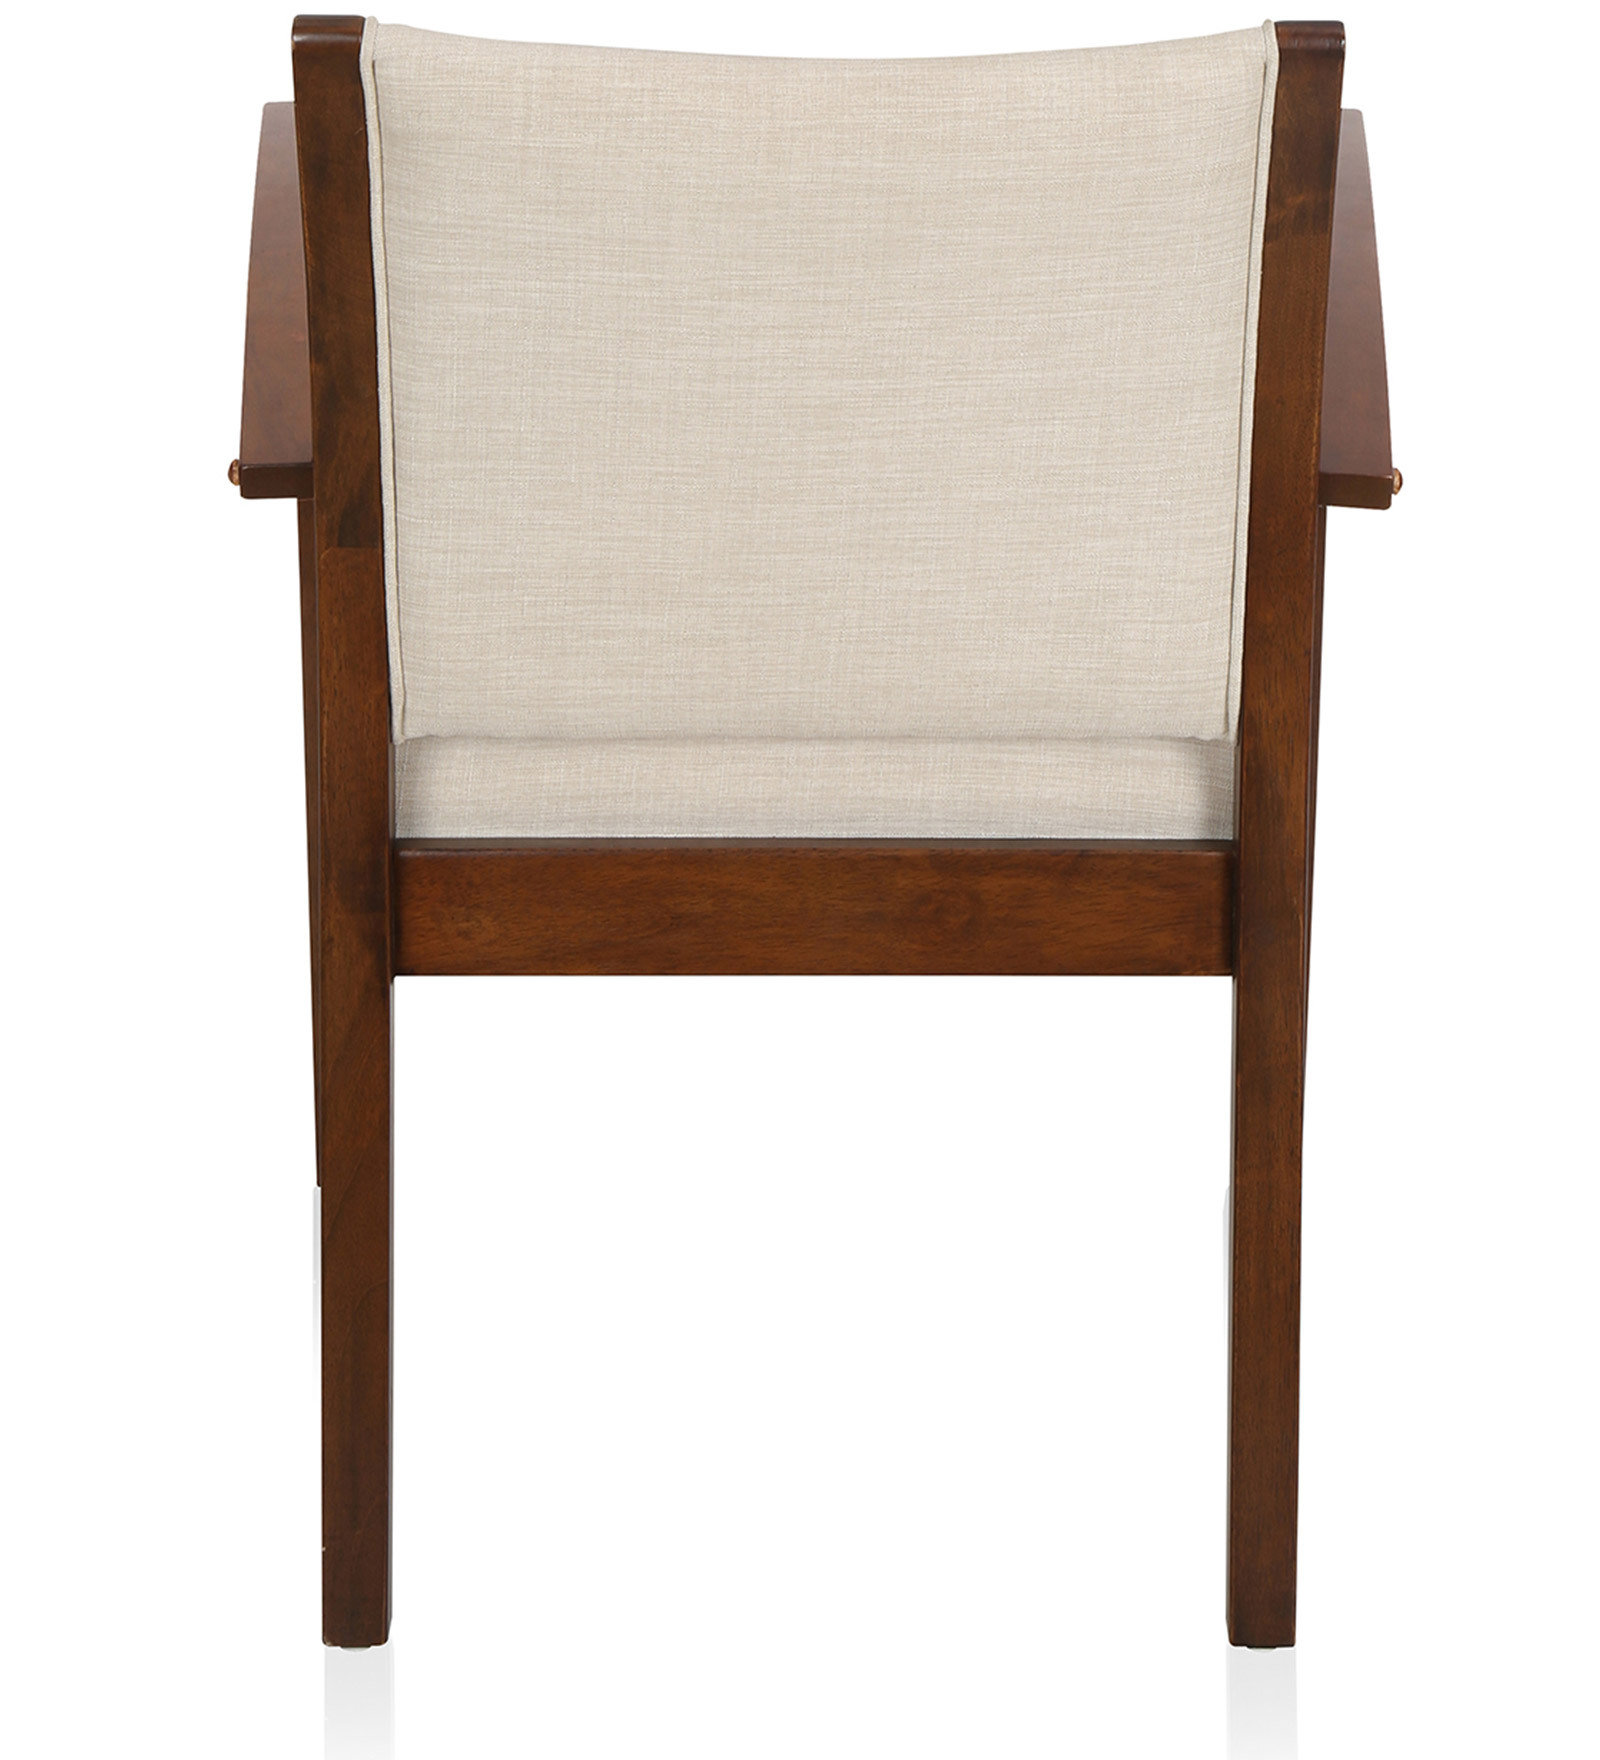Zinnia Arm Chair in Beige Colour by @ Home: (175, 11, 1441, 1731)
